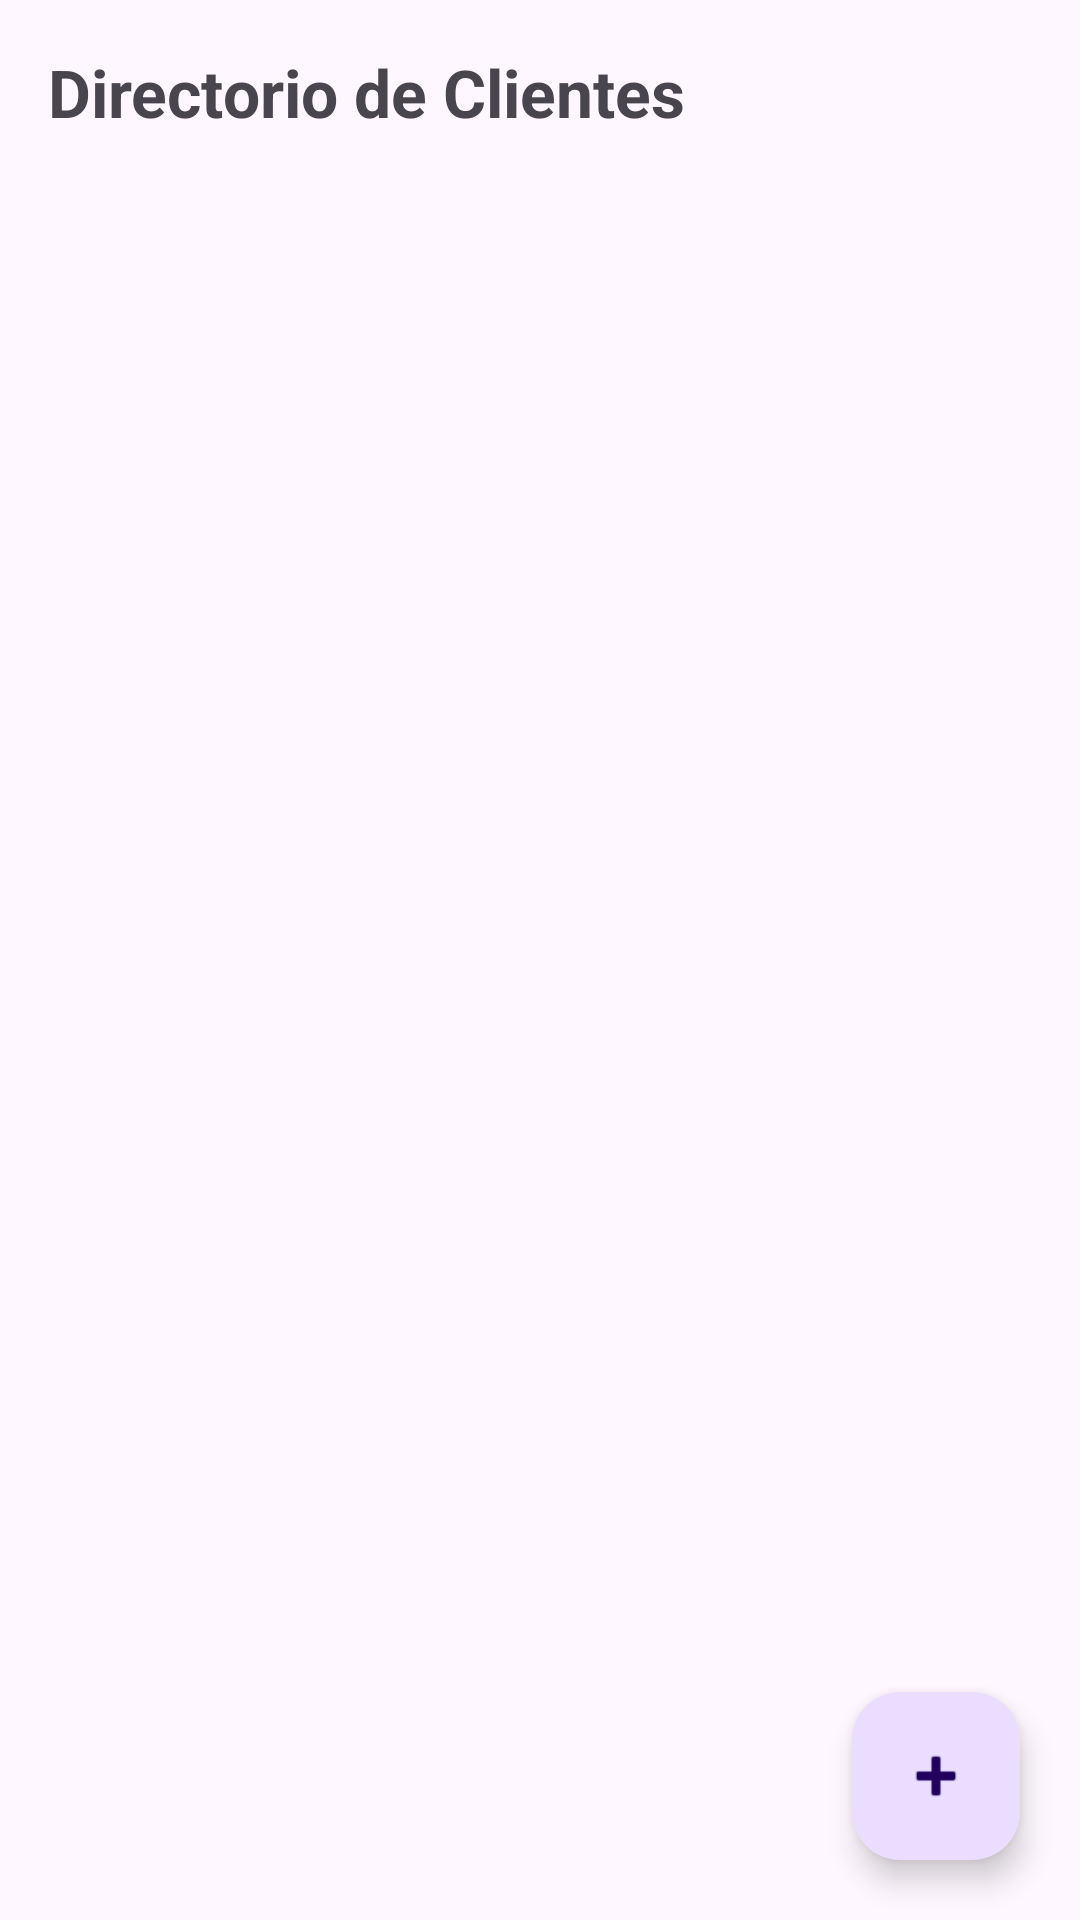

Icons on this 1080*1920 Android screen, each with its box as [x1=x1, y1=y1, x2=x2, y2=y2]:
Registrar cliente: [x1=852, y1=1692, x2=1020, y2=1860]
